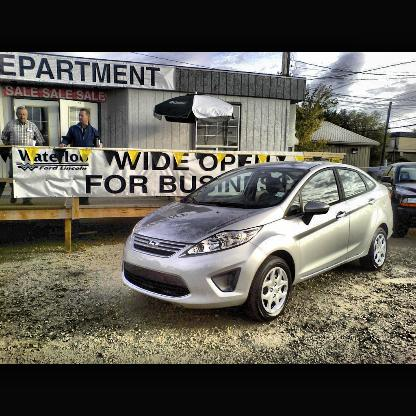Ford Fiesta Sedan 2012: (124, 161, 394, 323)
